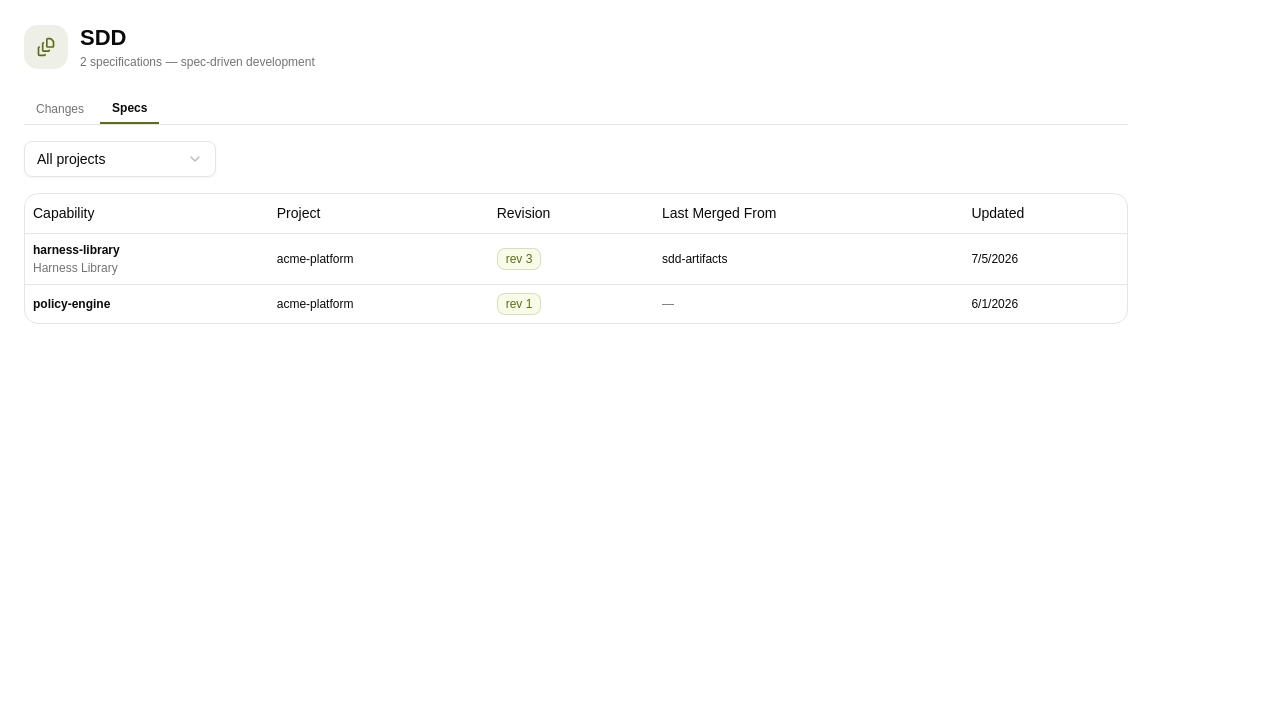
it: Sdd — spec detail drawer › spec_drawer_raw_toggle_shows_the_source_verbatim
This screenshot has width=1280, height=720.
Click the text "harness-library" at (76, 250), box [33,243,120,257]
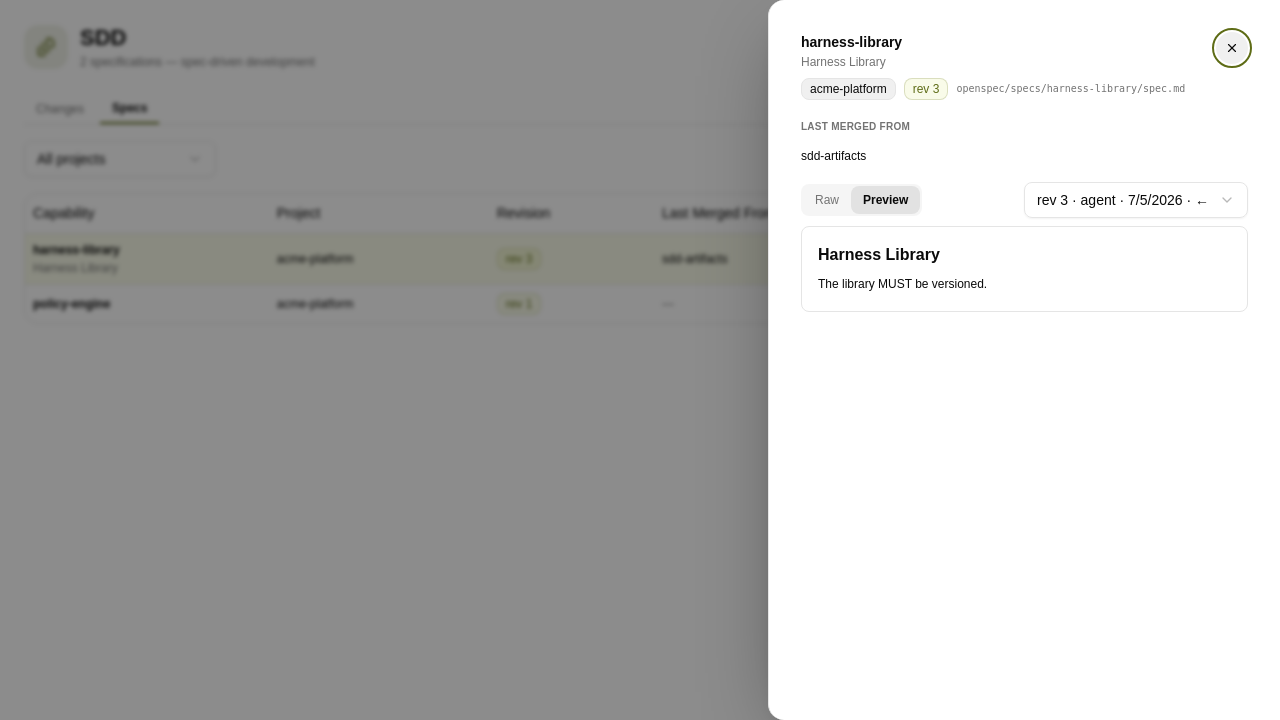
Check: the panel with test id "spec-panel" is shown, box [801,226,1248,312]
Click the button "Raw" at (827, 200), box [803,186,851,214]
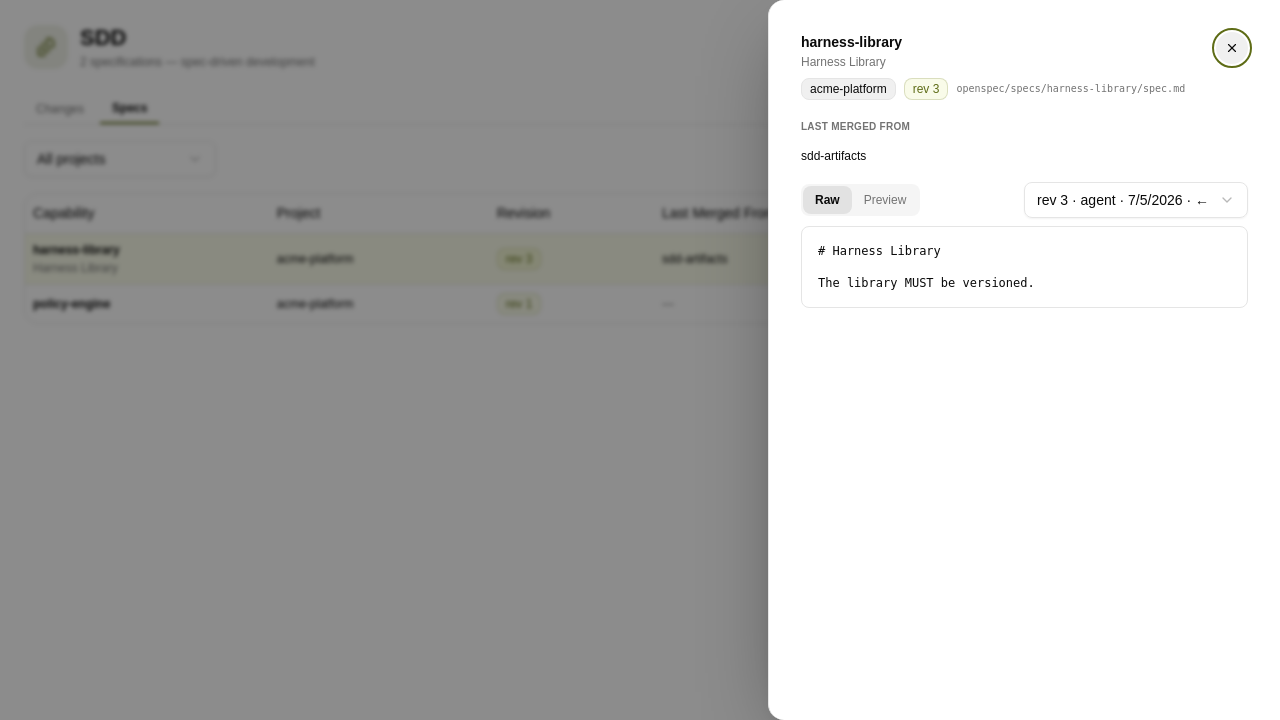
Check: the text with test id "spec-raw" shows "# Harness Library", box [818,244,1035,290]
Check: the text with test id "spec-raw" shows "The library MUST be versioned.", box [818,244,1035,290]
Click the button "Preview" at (885, 200), box [852,186,918,214]
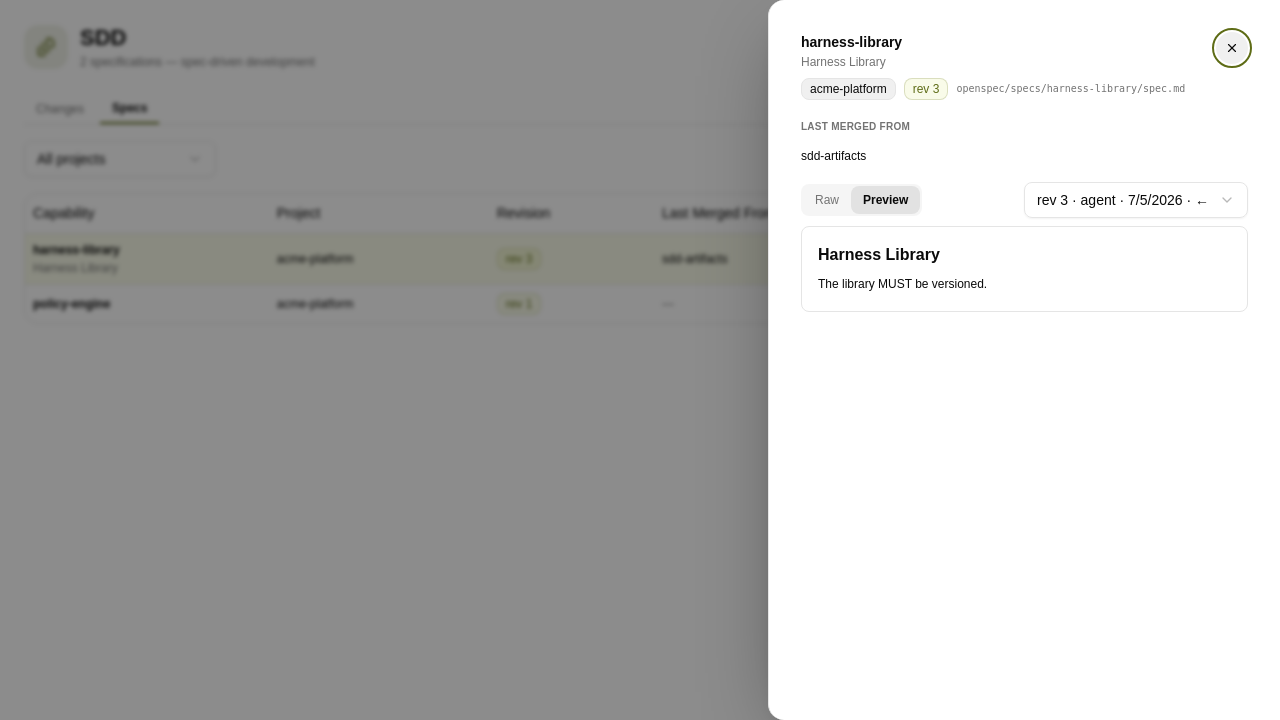
Check: the text with test id "spec-raw" is gone
